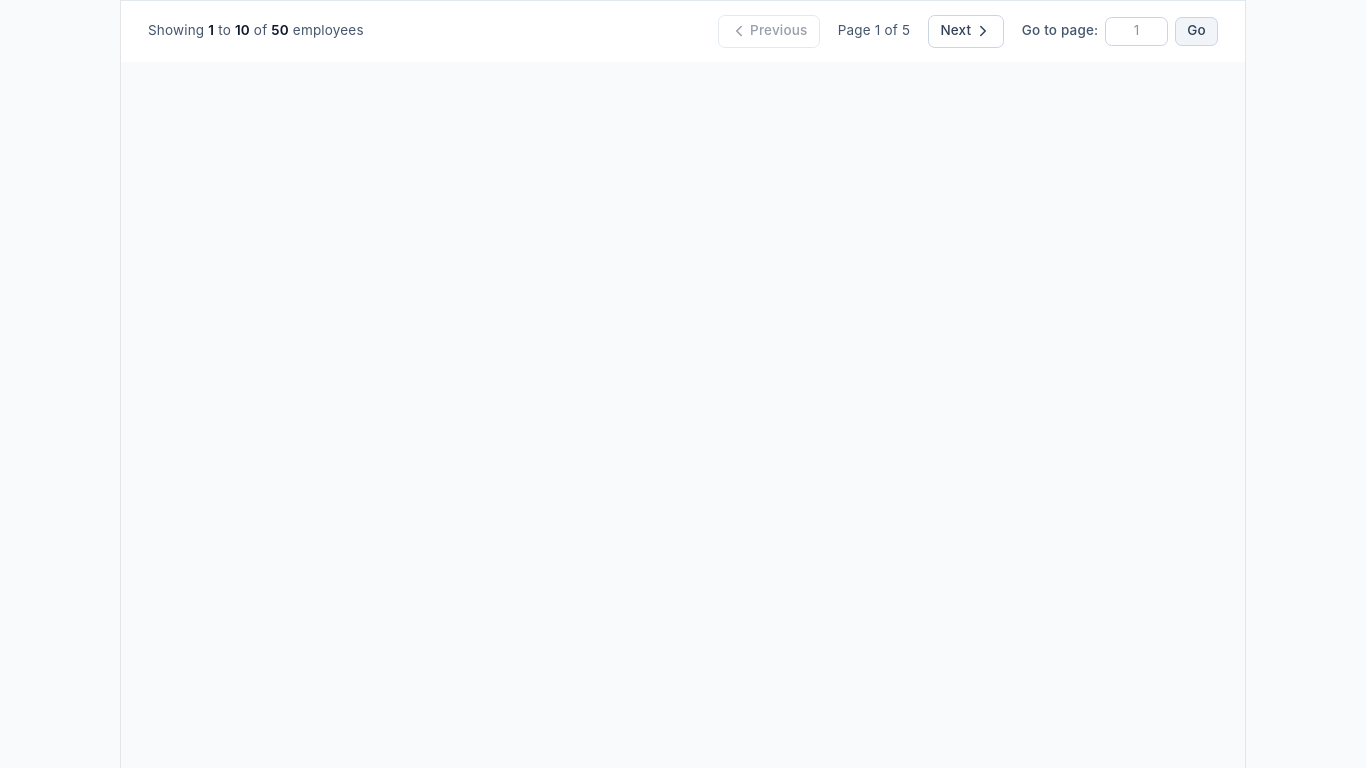
Pagination Component › rejects zero, negative numbers, decimals, or non-digits with validation error
Note: Test zero
Type "0" into the field named "page number" at (1137, 31), box [1105,17,1168,46]
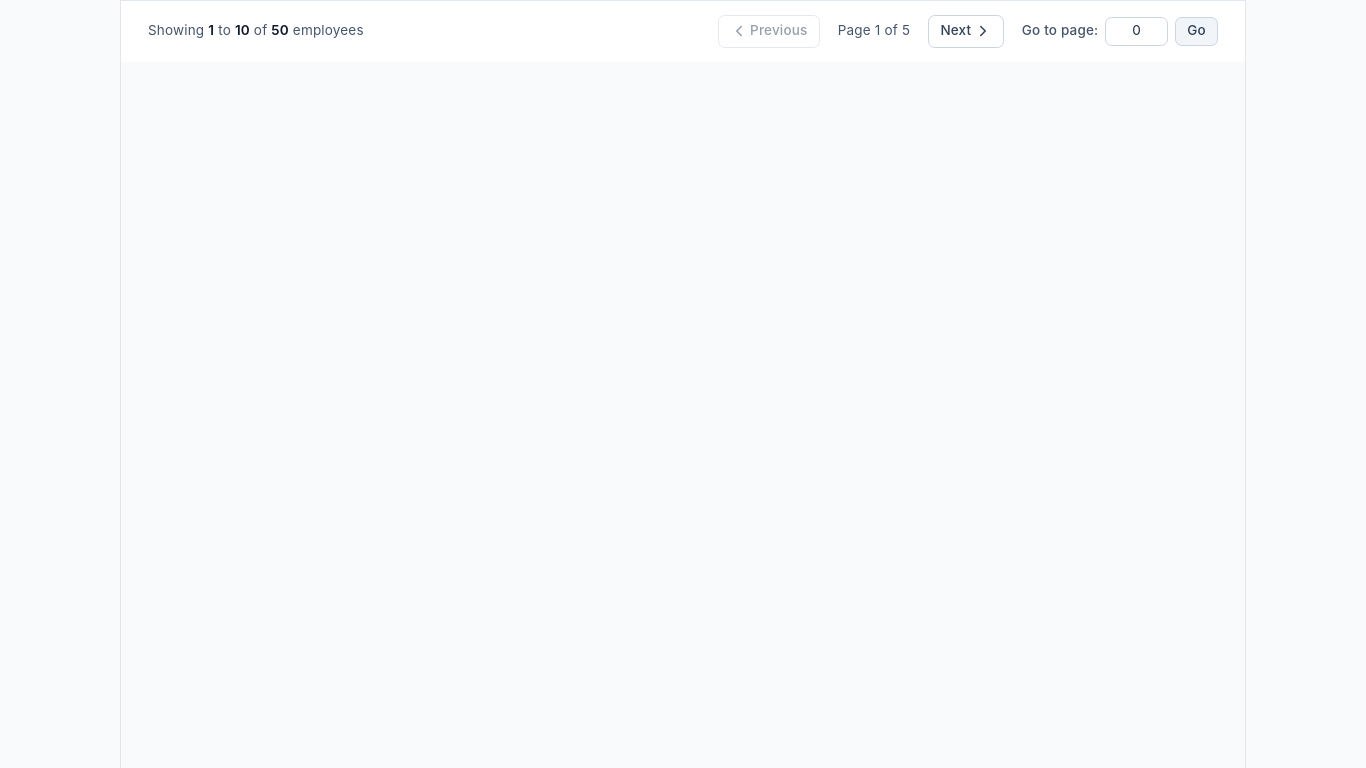
Click the button "Go" at (1196, 31), box [1175,17,1218,46]
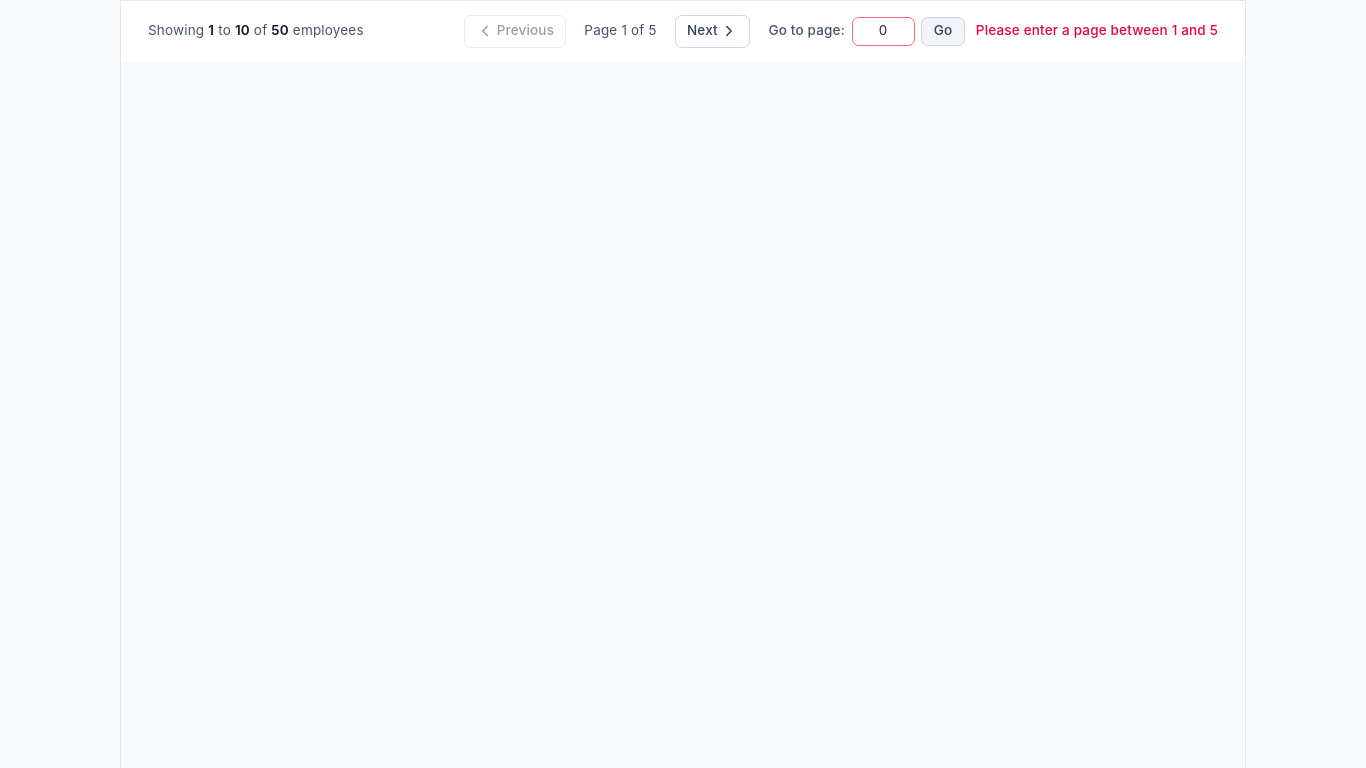
Expected: the message reads "Please enter a page between 1 and 5", [976,22,1218,38]
Note: Test decimal
Replace the text in the field named "page number" with "2.5" at (883, 31), box [852,17,915,46]
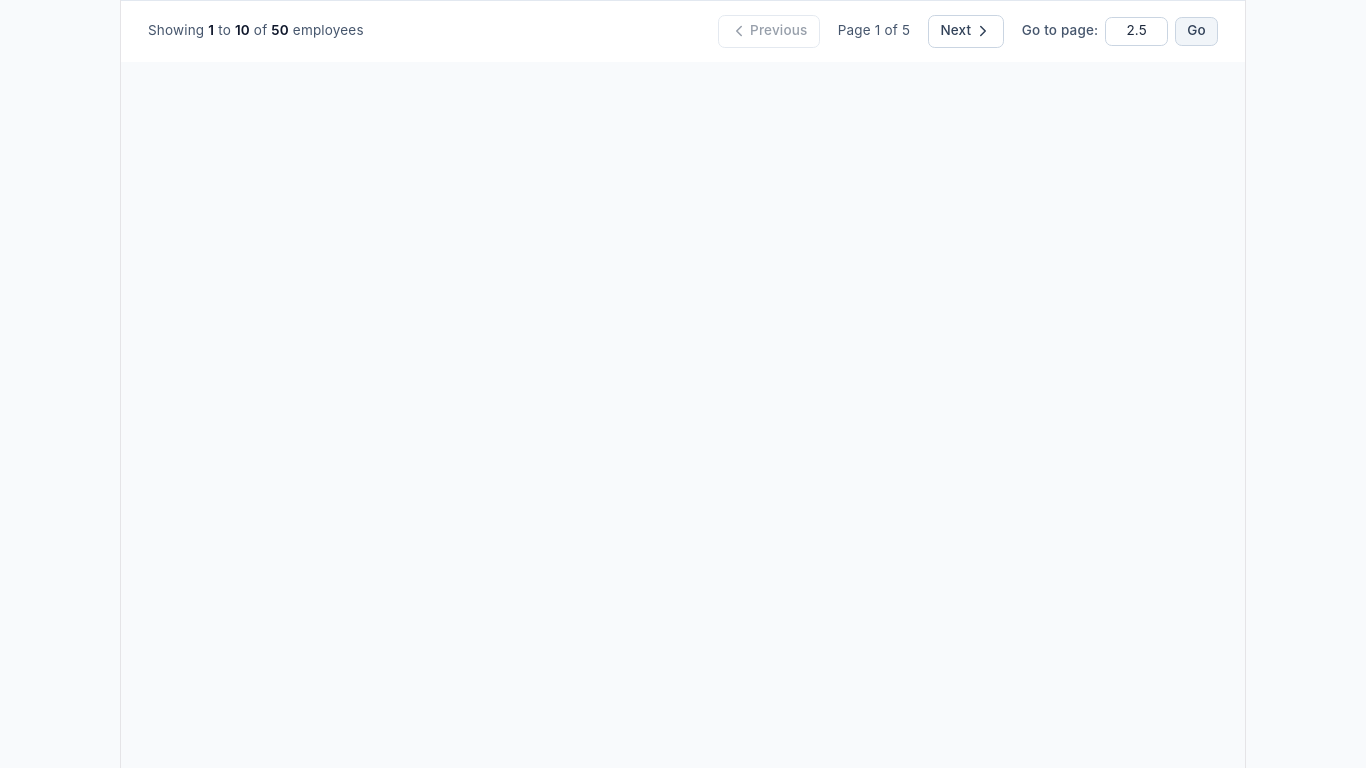
Click the button "Go" at (1196, 31), box [1175,17,1218,46]
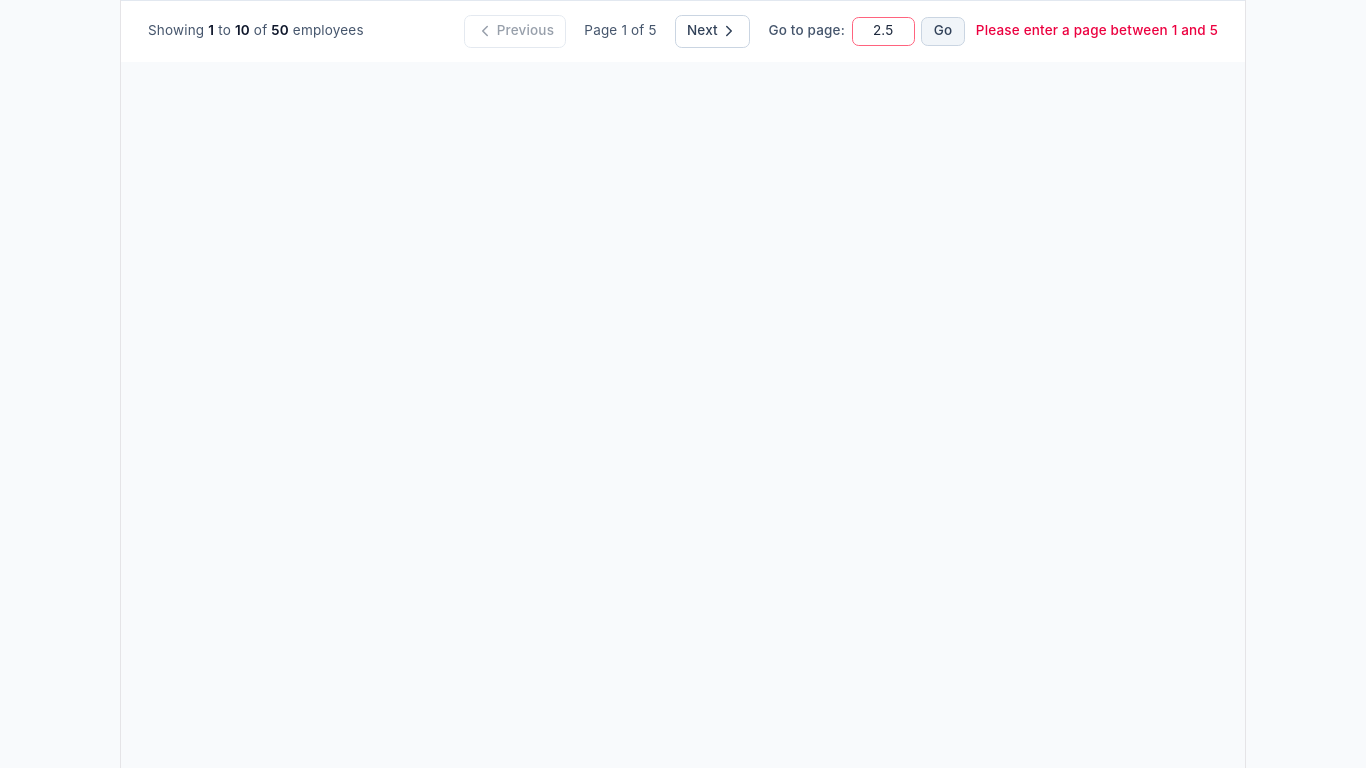
Expected: the message reads "Please enter a page between 1 and 5", [976,22,1218,38]
Note: Test non-digit
Replace the text in the field named "page number" with "abc" at (883, 31), box [852,17,915,46]
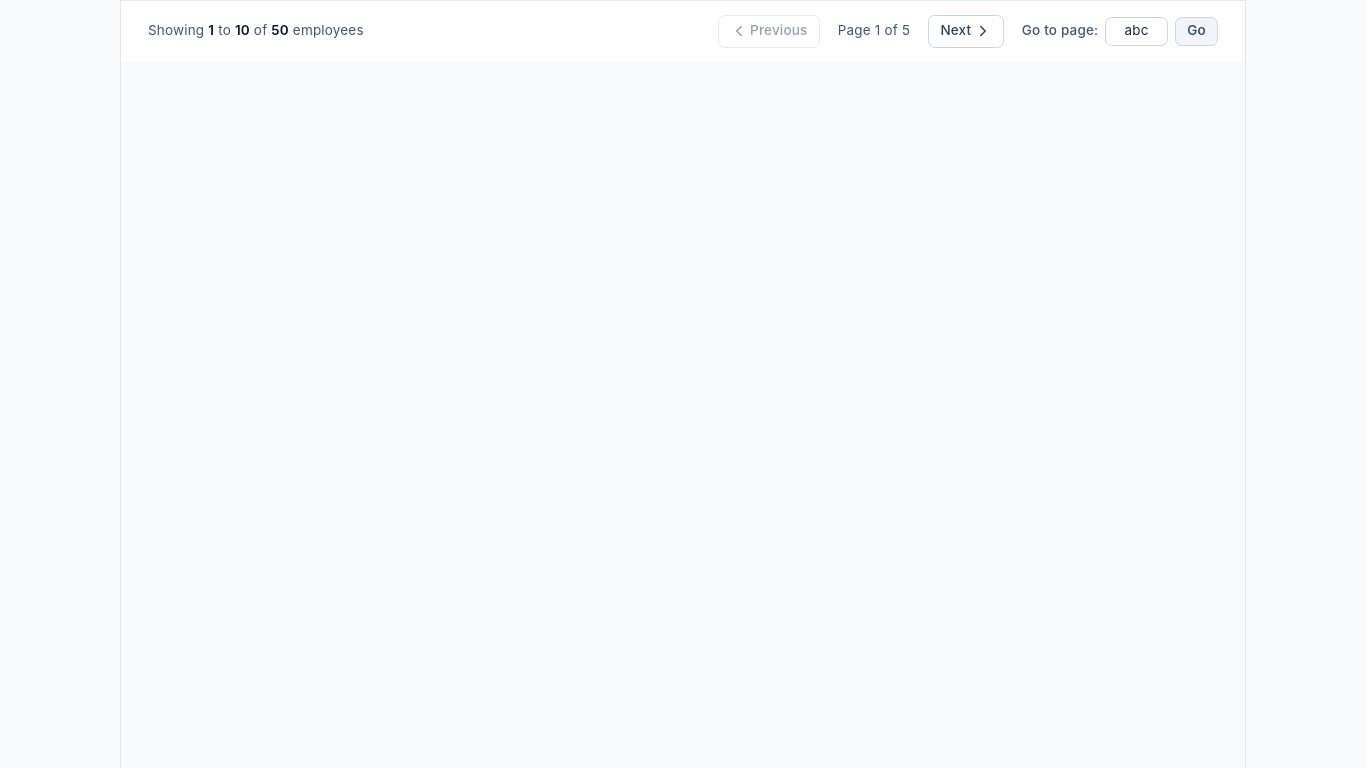
Click the button "Go" at (1196, 31), box [1175,17,1218,46]
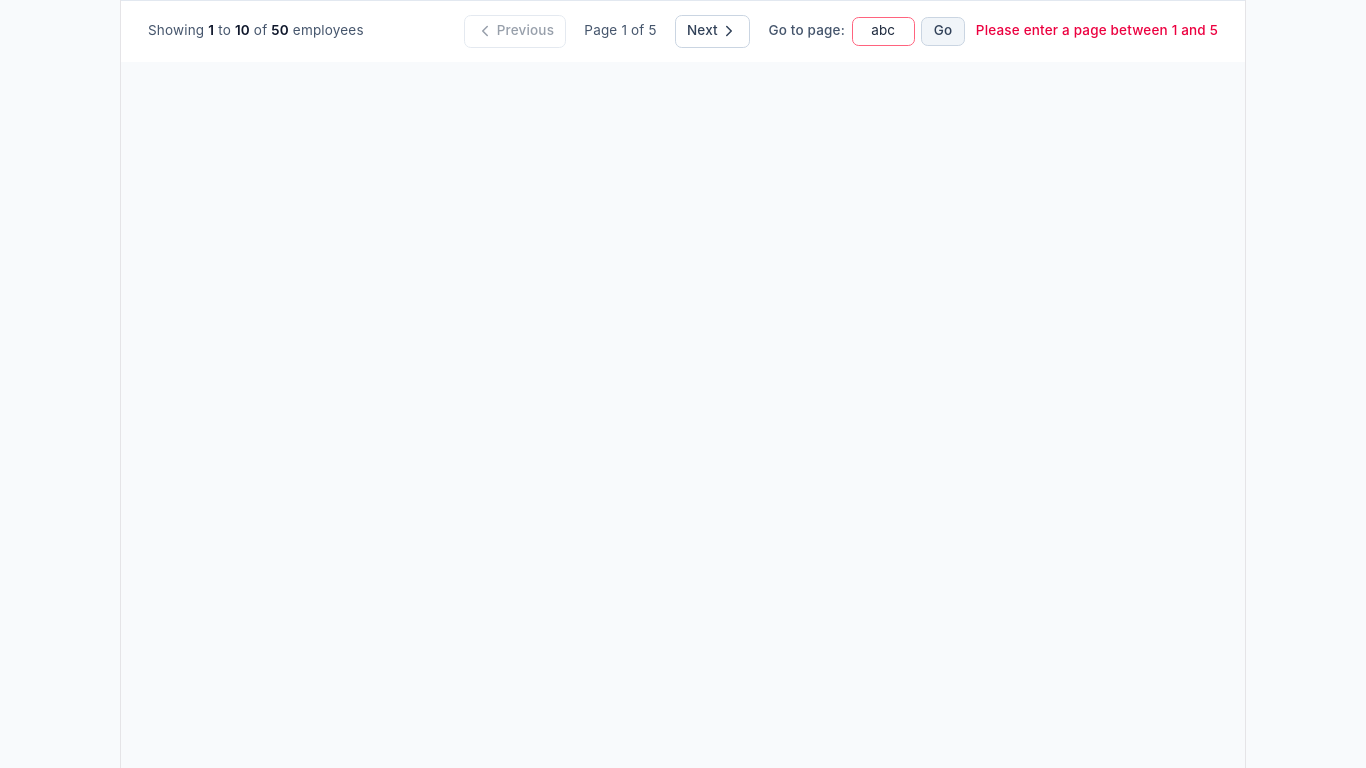
Expected: the message reads "Please enter a page between 1 and 5", [976,22,1218,38]
